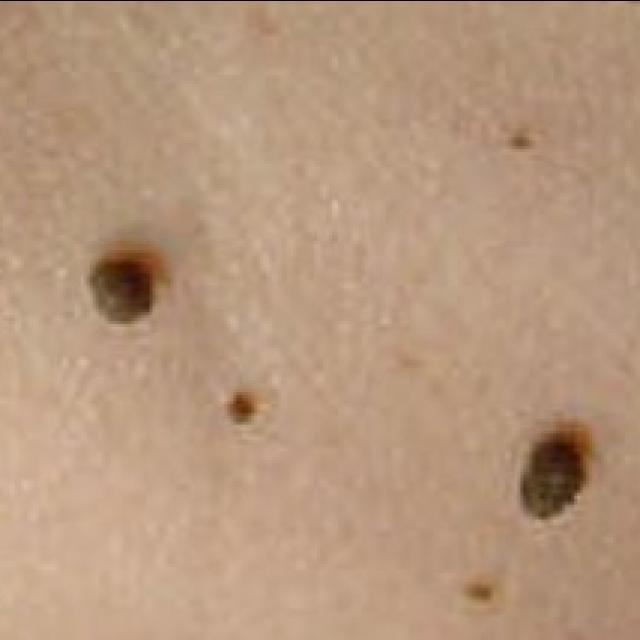wart: (497, 403, 607, 545), (75, 240, 155, 329)
